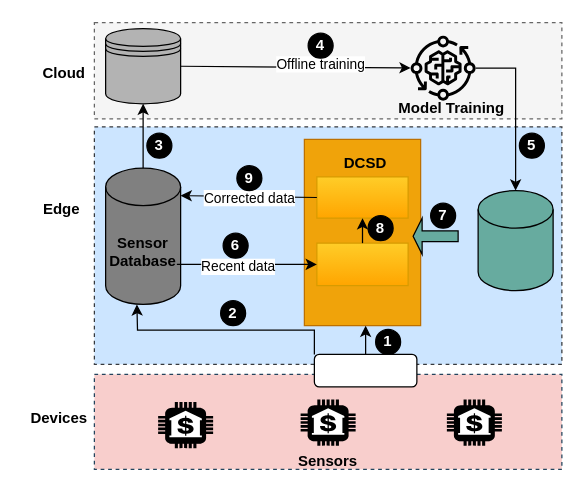
This 584x501 diagram has some shape labels left out. Here are the shapes that lost their labels. From the top down, the centre of each, then its label:
At (x=142, y=66): "Data Center".
At (x=362, y=197): "Correcting".
At (x=515, y=240): "Model Database".
At (x=362, y=264): "Detecting".
At (x=365, y=370): "IoT Gateway".
